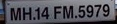character: (9, 6, 21, 20), (62, 4, 73, 19), (21, 6, 31, 20), (85, 3, 93, 18), (40, 6, 49, 19), (53, 5, 61, 19), (93, 3, 101, 17), (77, 4, 85, 17), (101, 3, 109, 16), (34, 6, 40, 20)
